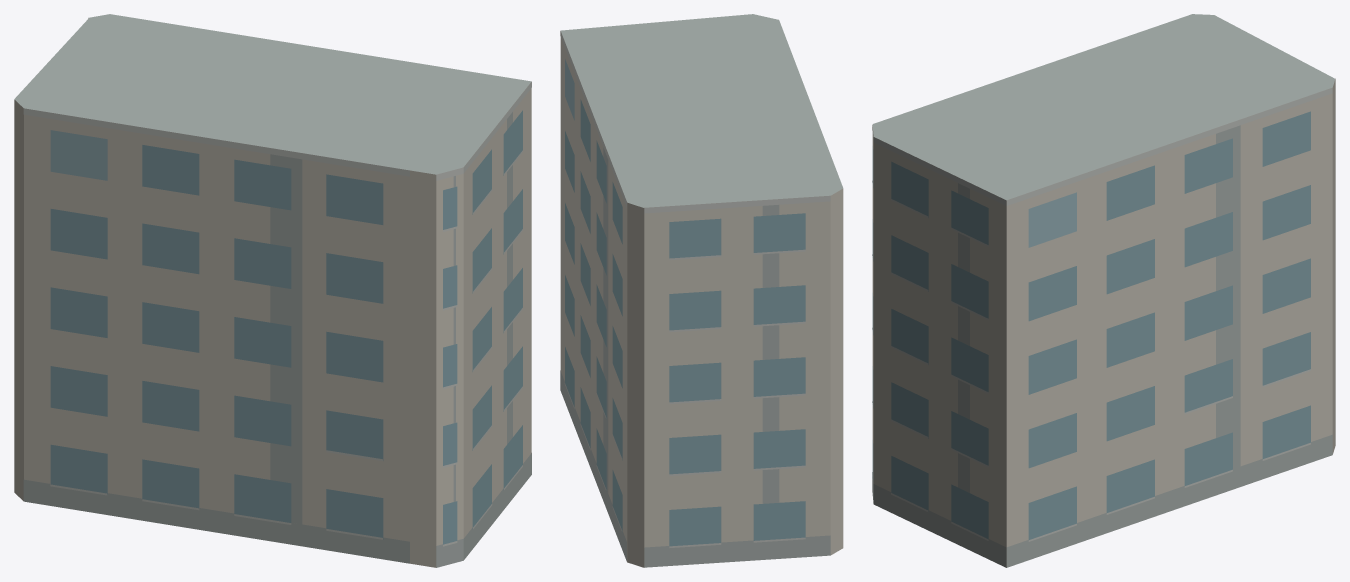
The model's file is survey-upis-32844893.glb.
The picture shows the model from 3 angles, left to right: view 1: azimuth 30°, elevation 25°; view 2: azimuth 150°, elevation 25°; view 3: azimuth 270°, elevation 25°; orthographic projection. The views are drawn at different scales.
Visible parts, largest first — view 1: survey-upis-32844893.tmp; view 2: survey-upis-32844893.tmp; view 3: survey-upis-32844893.tmp.
Part boxes in pixels (x1,y1,x2,y2): survey-upis-32844893.tmp: (14,14,531,567); survey-upis-32844893.tmp: (560,14,843,567); survey-upis-32844893.tmp: (872,14,1335,567).
Size of the model in its own units: 16.59 by 15.25 by 17.42.
